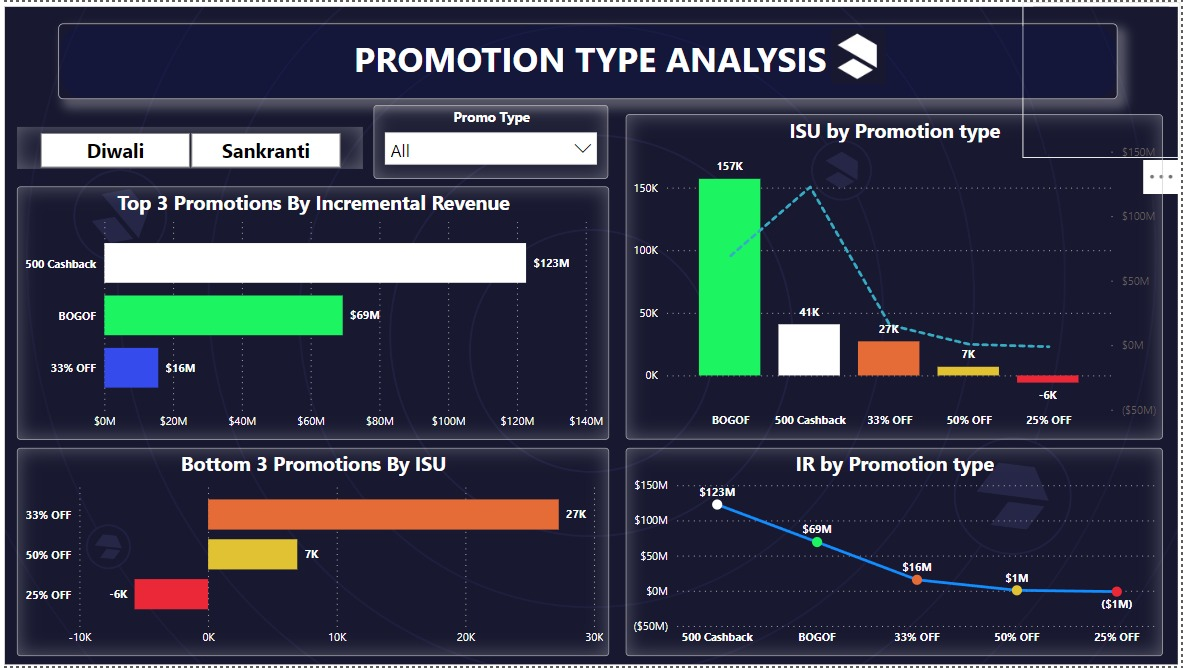

The page's visual inventory and layout, read from the dashboard file:
{"tool":"powerbi","page":{"name":"Promotion Type Analysis","canvas":[1280,720],"ordinal":2},"visuals":[{"type":"image","box":[0,0,1281.8,722.7],"z":0},{"type":"image","box":[1109.1,0,170.5,170.5],"z":1000},{"type":"shape","box":[63.6,22.7,1147.7,81.8],"z":2000},{"type":"textbox","box":[336.4,29.5,606.8,70.5],"z":3000},{"type":"image","box":[890.9,23.6,78.2,70.9],"z":4000},{"type":"barChart","title":"Top 3 Promotions By Incremental Revenue","fields":{"Category":["fact_events.promo_type"],"Y":["Sum(fact_events.IR)"]},"box":[18.2,200,641.8,274.5],"z":5000},{"type":"slicer","title":"Promo Type","fields":{"Values":["fact_events.promo_type"]},"box":[405.5,110.9,254.5,80],"z":6000},{"type":"slicer","fields":{"Values":["fact_events.Campaign"]},"box":[18.2,134.5,374.5,45.5],"z":7000},{"type":"barChart","title":"Bottom 3 Promotions By ISU","fields":{"Category":["fact_events.promo_type"],"Y":["Sum(fact_events.ISU)"]},"box":[18.2,483.6,641.8,225.5],"z":8000},{"type":"lineClusteredColumnComboChart","title":"ISU by Promotion type","fields":{"Category":["fact_events.promo_type"],"Y":["Sum(fact_events.ISU)"],"Y2":["Sum(fact_events.IR)"]},"box":[678.2,121.8,581.8,352.7],"z":9000},{"type":"lineChart","title":" IR by Promotion type","fields":{"Category":["fact_events.promo_type"],"Y":["Sum(fact_events.IR)"]},"box":[678.2,483.6,581.8,225.5],"z":10000}]}

Visuals, with their boxes in screenshot pixels (x1, y1, x2, y2), scaled from the page's 1280x720 canvas onto the 1183x668 screenshot:
image: <box>0,0,1182,667</box>
image: <box>1025,0,1182,158</box>
shape: <box>59,21,1120,97</box>
textbox: <box>311,27,872,93</box>
image: <box>823,22,896,88</box>
"Top 3 Promotions By Incremental Revenue" barChart: <box>17,186,610,440</box>
"Promo Type" slicer: <box>375,103,610,177</box>
slicer - fact_events.Campaign: <box>17,125,363,167</box>
"Bottom 3 Promotions By ISU" barChart: <box>17,449,610,658</box>
"ISU by Promotion type" lineClusteredColumnComboChart: <box>627,113,1165,440</box>
" IR by Promotion type" lineChart: <box>627,449,1165,658</box>
